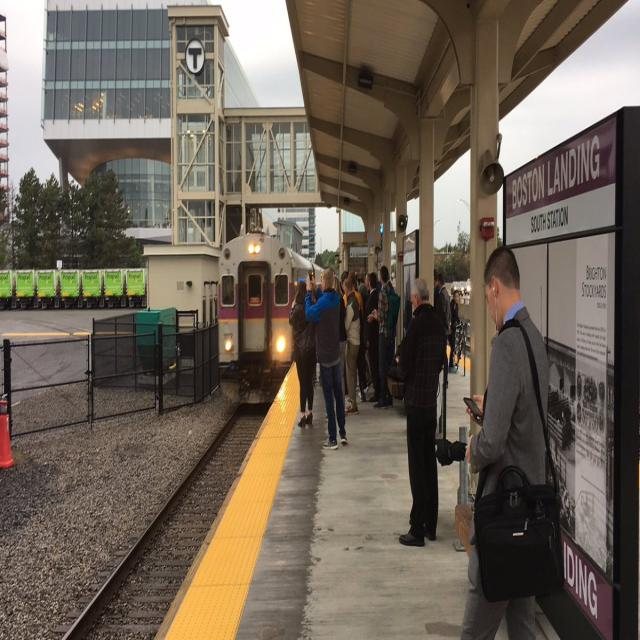body: (458, 243, 551, 640), (390, 274, 447, 550), (303, 264, 349, 450), (287, 278, 318, 428), (366, 264, 396, 409), (342, 268, 367, 404), (306, 267, 380, 309), (363, 271, 382, 404), (342, 277, 360, 417), (341, 357, 379, 408), (436, 272, 453, 377), (447, 288, 461, 368), (358, 307, 368, 357), (433, 266, 442, 315)
